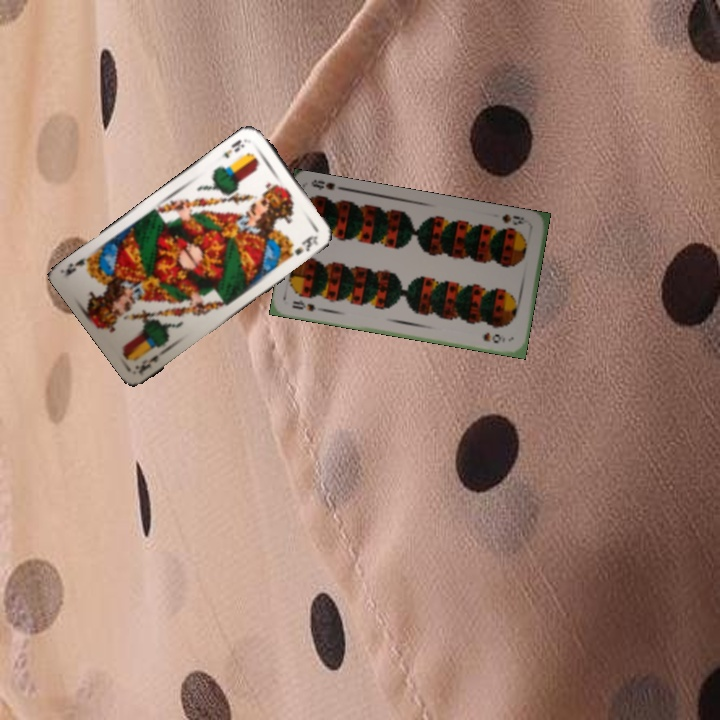EK: (132, 350, 161, 377), (219, 135, 247, 161)
S8: (288, 296, 326, 314), (498, 210, 530, 228)
